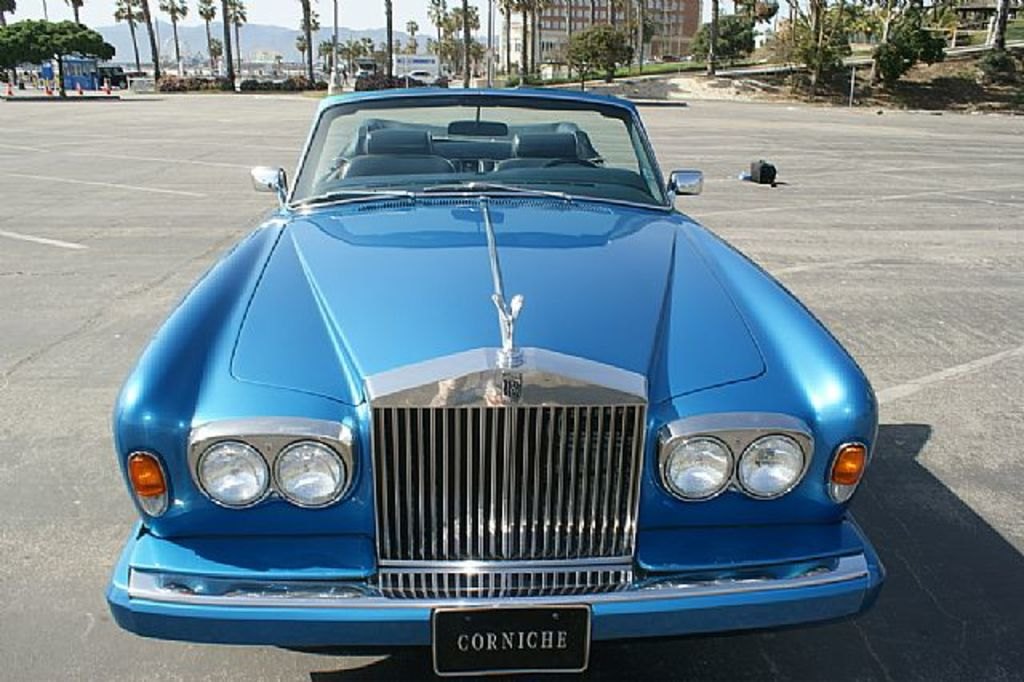Car: (92, 65, 903, 680)
